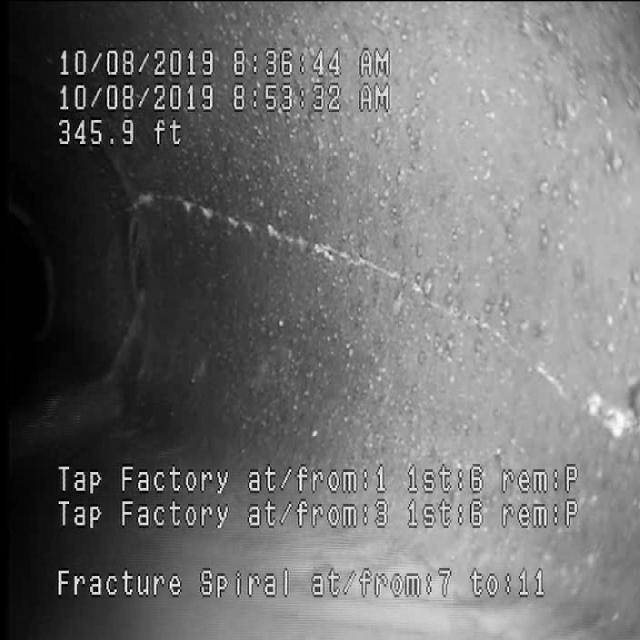Crack: (145, 168, 617, 416)
